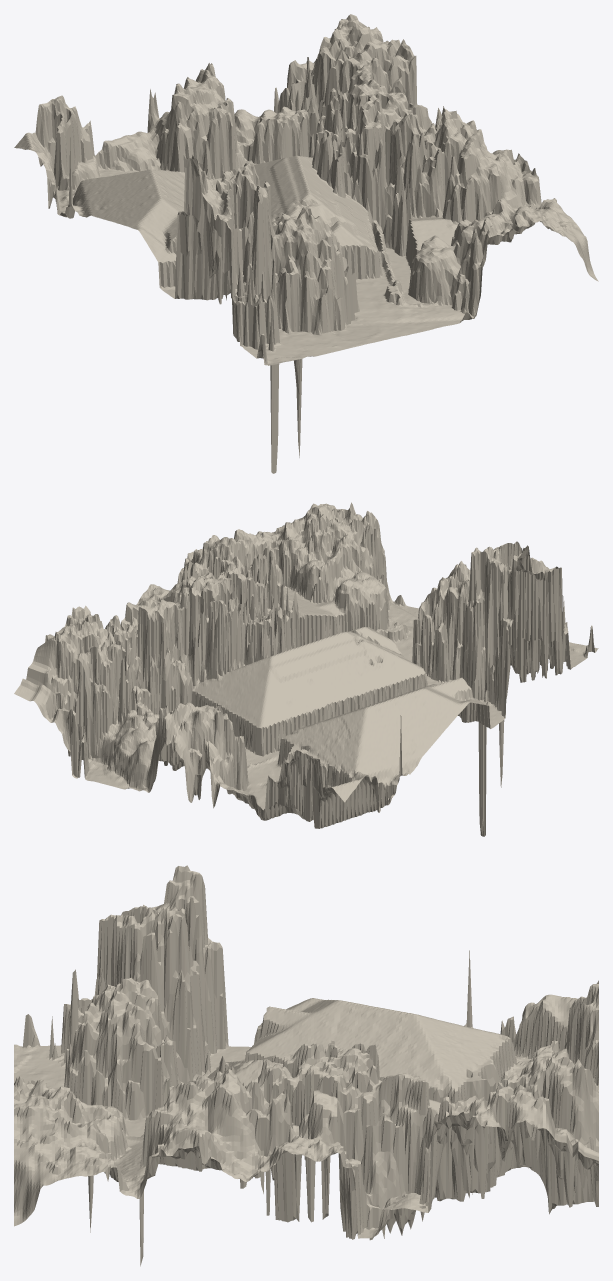
File: terrain.glb
3 views of the same model, one above another, from view 1: azimuth 30°, elevation 25°; view 2: azimuth 150°, elevation 25°; view 3: azimuth 270°, elevation 25° (orthographic). The views are drawn at different scales.
Parts seen in each view (by area): view 1: geometry_0; view 2: geometry_0; view 3: geometry_0.
Part boxes in pixels (x1,y1,x2,y2): geometry_0: (14,14,598,473); geometry_0: (14,502,598,836); geometry_0: (14,865,598,1266).
Bounding box in the file's own units: 39.75 × 36.6 × 52.9.
